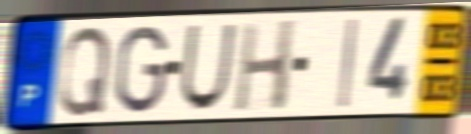4: (365, 12, 415, 111)
G: (113, 22, 171, 117)
H: (232, 17, 299, 114)
I: (336, 16, 360, 111)
Q: (56, 24, 114, 120)
U: (177, 22, 239, 114)
